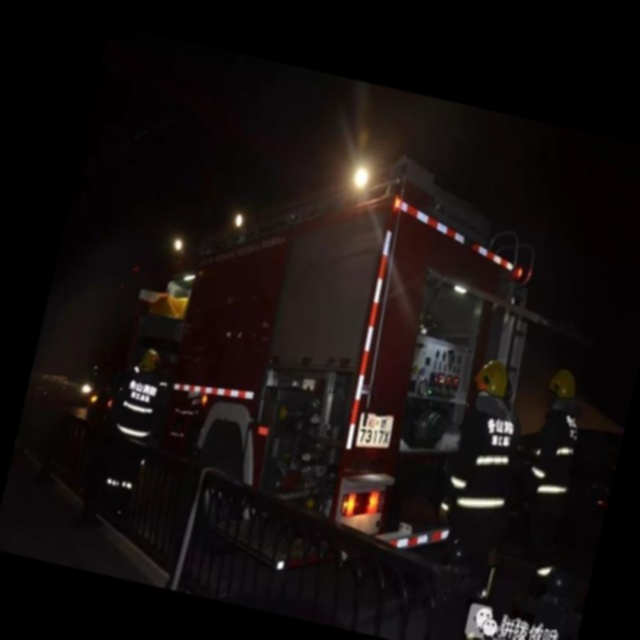Con_Chaleco: (452, 410, 523, 517), (529, 414, 584, 503), (114, 369, 164, 443)
